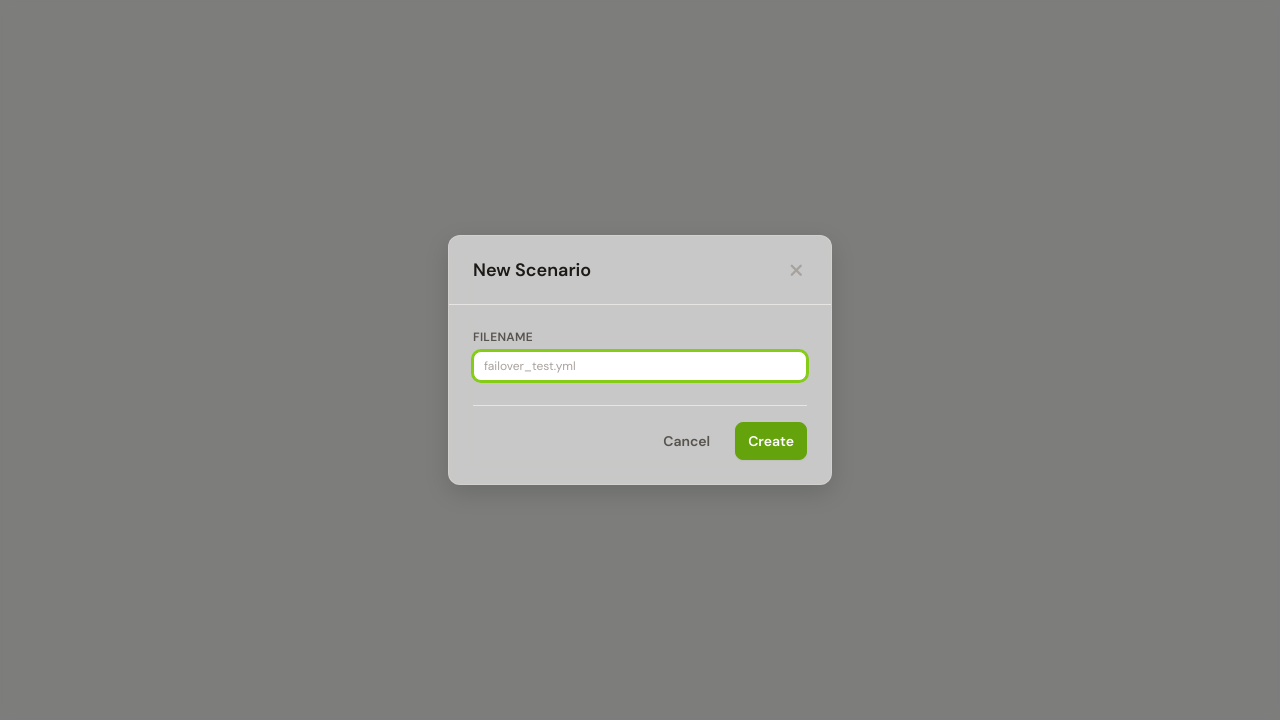
Test: CreateScenarioModal › shows the regex error for filenames with disallowed characters
Note: Leading hyphen is rejected by the [A-Za-z0-9_] start anchor
In the field with placeholder "failover_test.yml": (640, 366) [473,351,807,381], type "-bad name!"
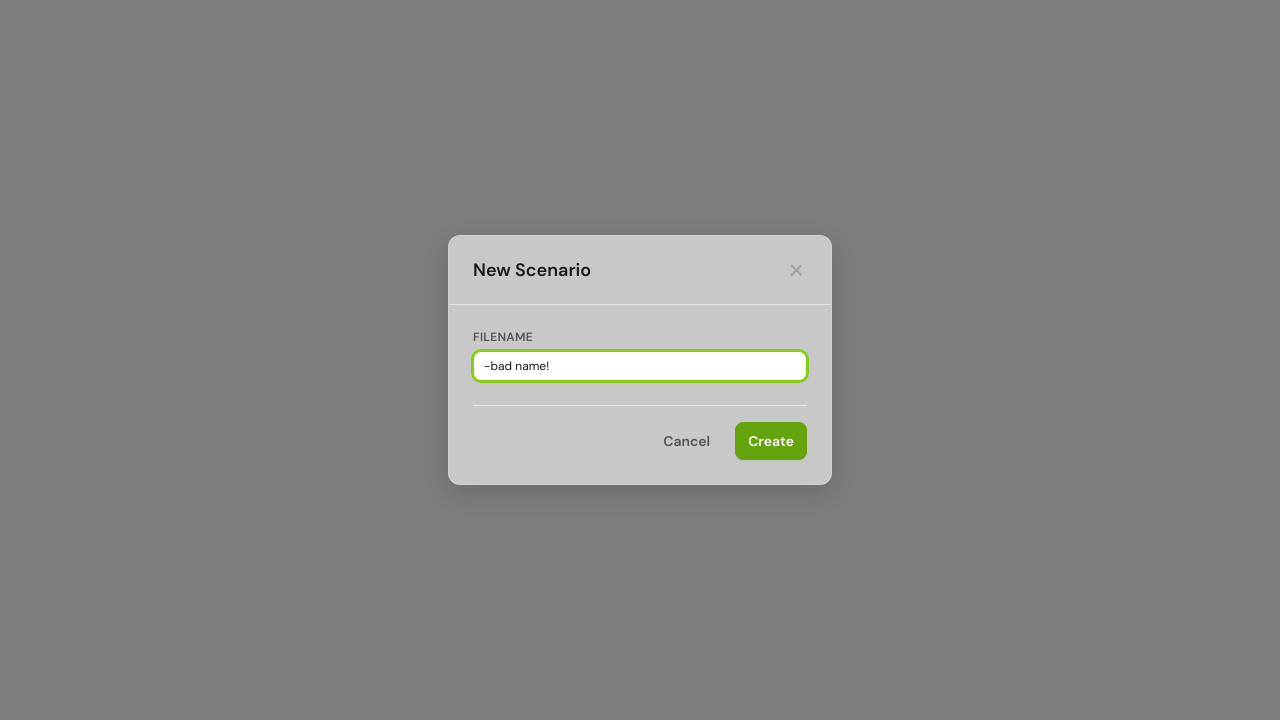
Click the button "Create": (771, 441) [735,422,807,460]
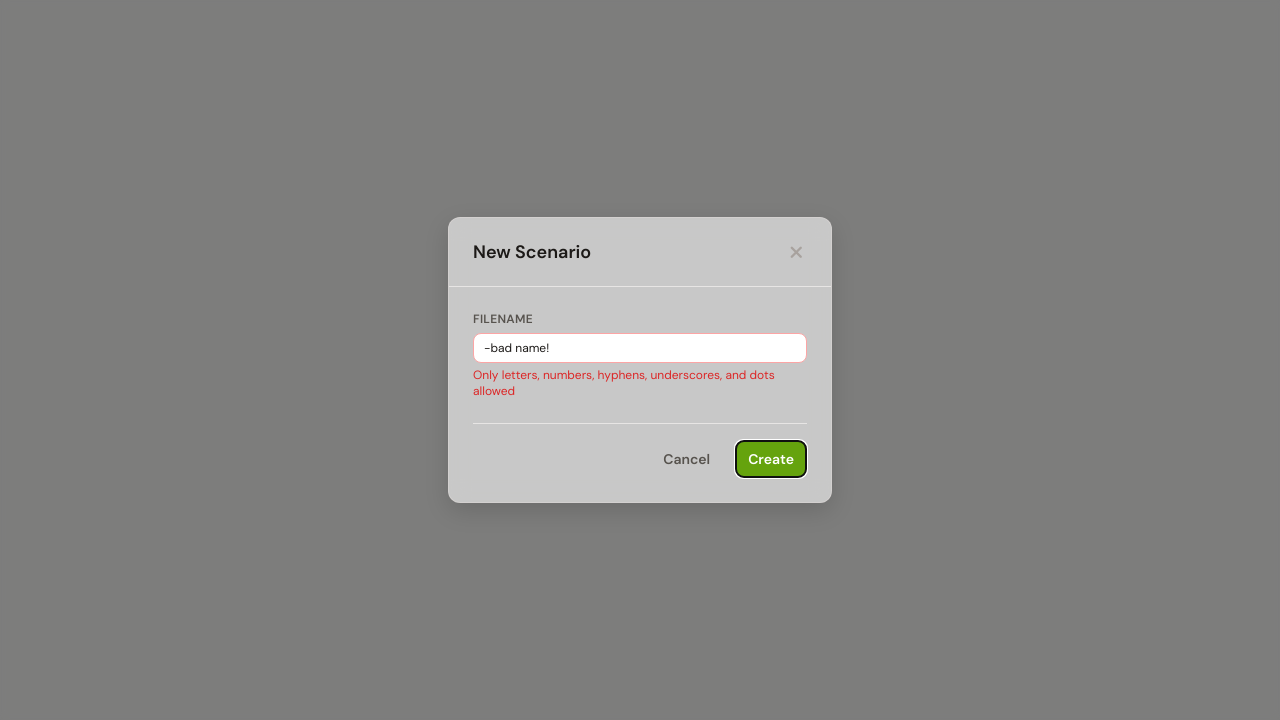
expect the text "Only letters, numbers, hyphens, underscores, and dots allowed" is shown: met, box [473,367,807,399]
